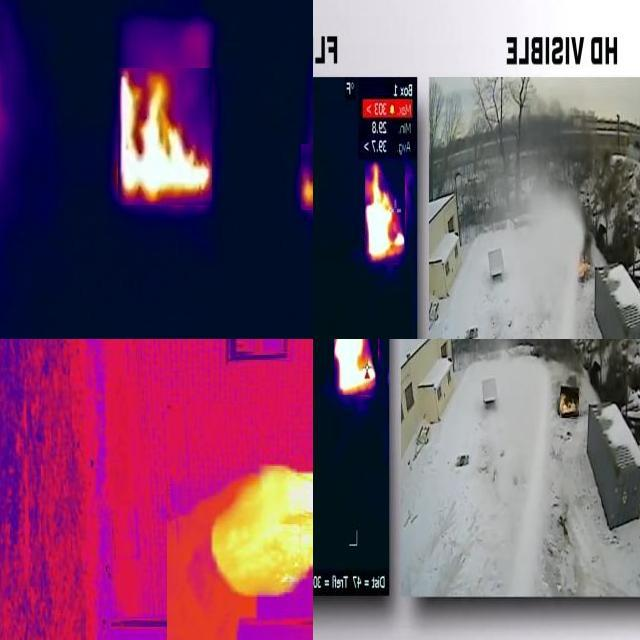fire: (210, 463, 314, 603), (118, 68, 212, 205), (365, 161, 405, 263), (333, 340, 377, 395), (301, 162, 317, 210), (560, 393, 579, 418)
